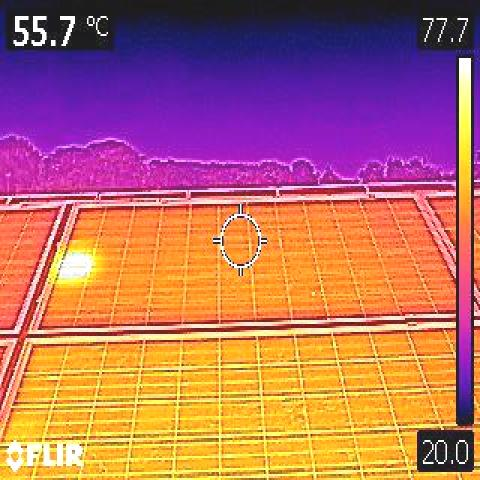fault: (62, 250, 87, 280)
